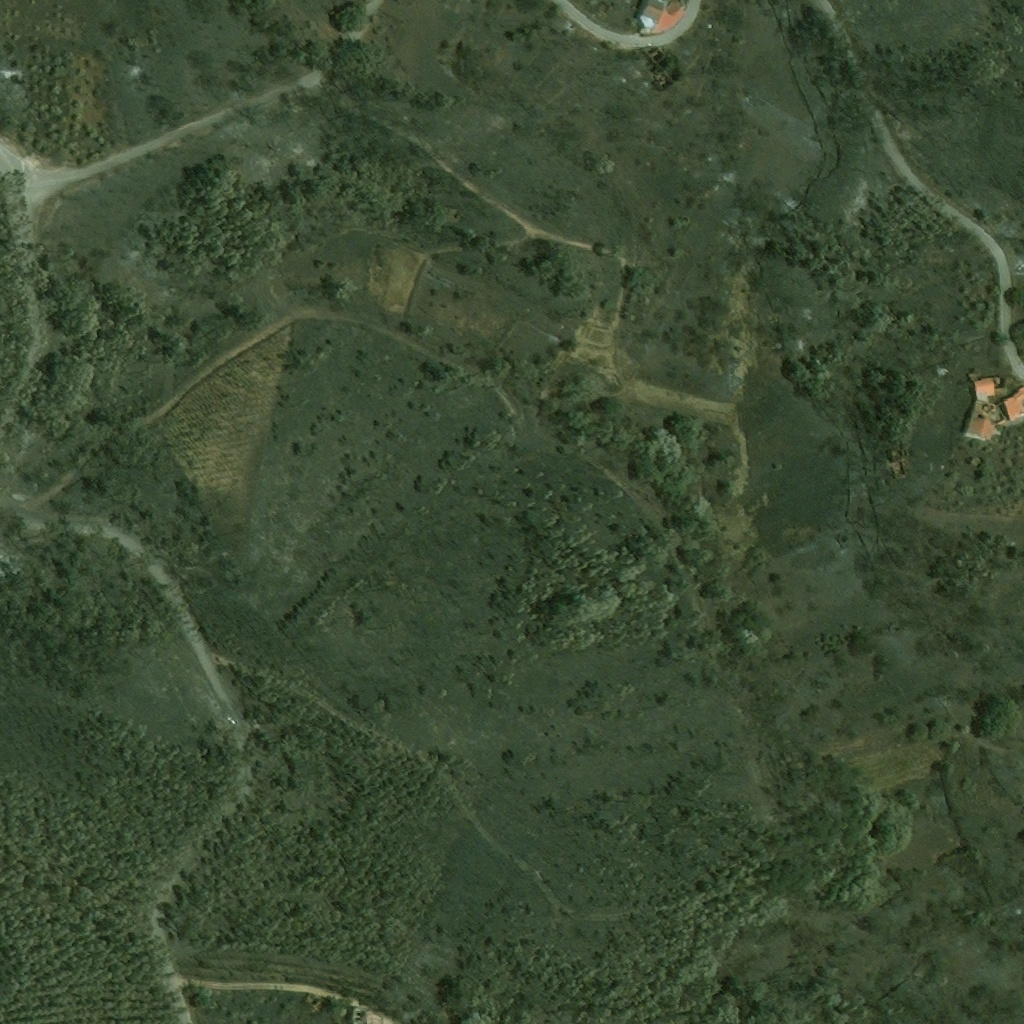0 no-damage: (654, 0, 687, 33), (636, 0, 666, 33), (974, 374, 1007, 402), (1004, 386, 1023, 420)
1 minor-damage: (962, 400, 996, 438)
3 destroyed: (343, 1009, 347, 1014)
4 un-classified: (350, 1004, 394, 1023)
